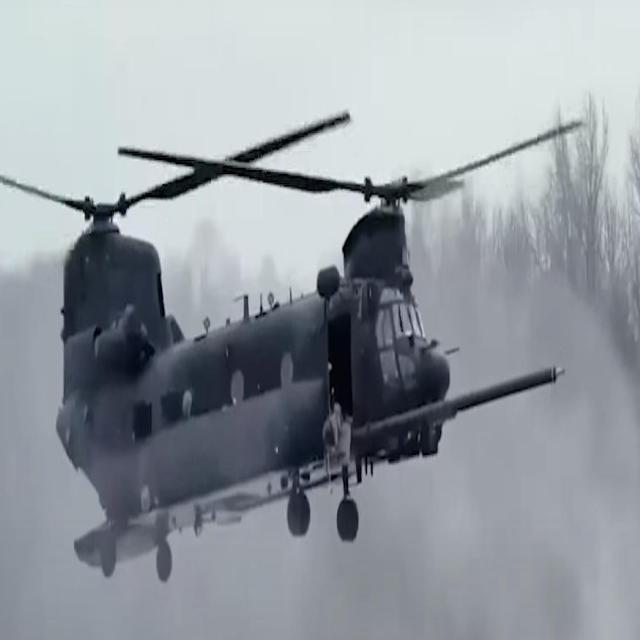Helicopter: (31, 118, 514, 570)
